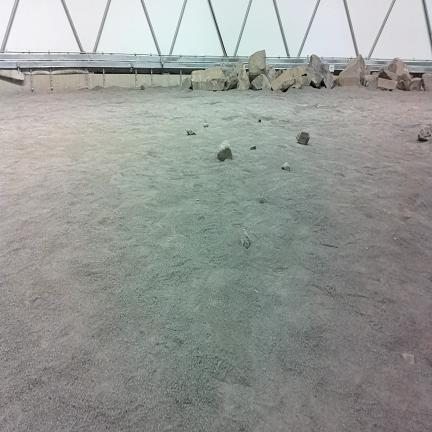Rock: (272, 66, 309, 91), (338, 54, 365, 87), (308, 55, 333, 88), (192, 67, 225, 90), (248, 50, 266, 82), (225, 61, 243, 90), (272, 70, 296, 91), (388, 58, 409, 76), (251, 74, 271, 90), (0, 70, 24, 83), (237, 66, 250, 90), (218, 140, 232, 161), (265, 65, 280, 82), (418, 124, 432, 142), (397, 73, 411, 90), (378, 78, 397, 90), (379, 68, 397, 80), (240, 229, 250, 248), (296, 132, 310, 145), (408, 78, 422, 91), (295, 76, 310, 88), (365, 75, 377, 90), (423, 73, 431, 91), (402, 353, 414, 364), (182, 78, 191, 89), (258, 194, 268, 203), (332, 76, 339, 88), (365, 65, 371, 76), (282, 163, 290, 171), (187, 130, 196, 135), (140, 84, 146, 90), (372, 72, 379, 76), (250, 146, 256, 149), (258, 118, 261, 123), (204, 124, 208, 127)
